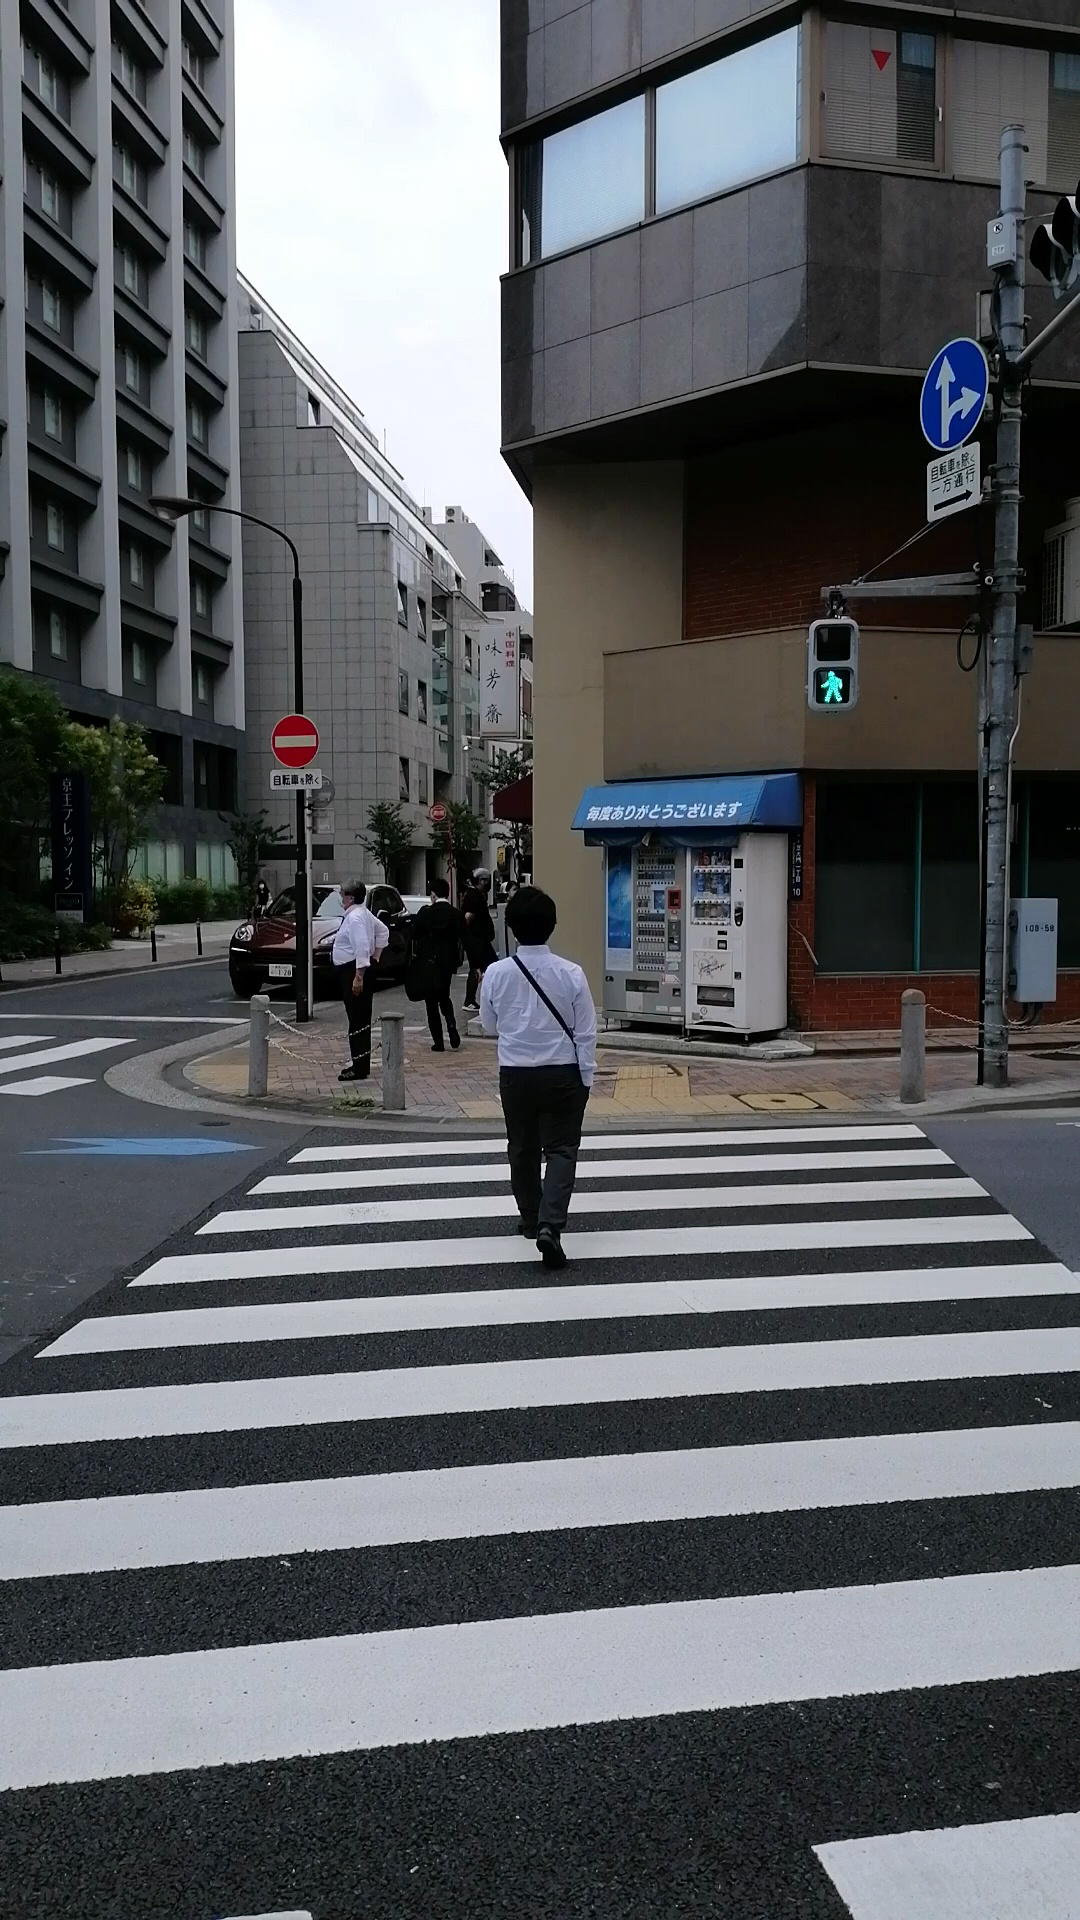green: (806, 616, 855, 709)
